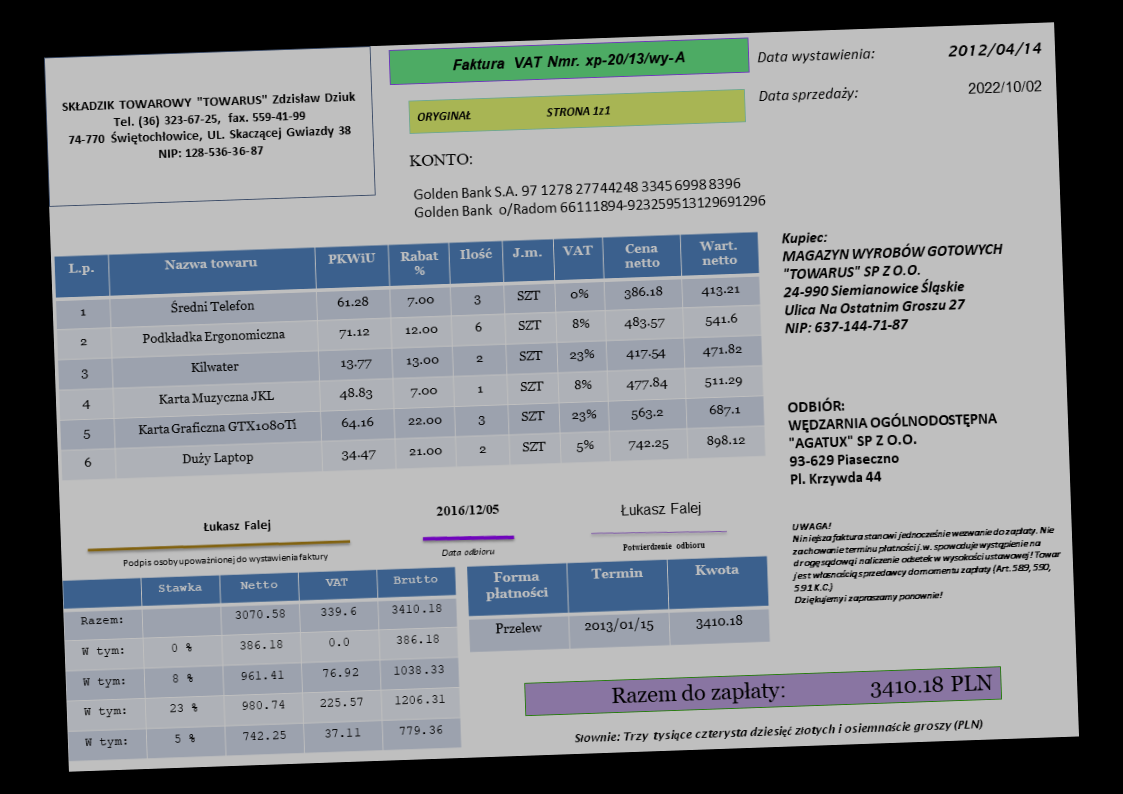Table: (53, 231, 767, 482), (63, 567, 462, 761), (465, 554, 772, 653)
TextBox: (779, 222, 1008, 335), (790, 512, 1064, 606), (60, 88, 361, 165), (786, 390, 1000, 488), (411, 174, 770, 220), (610, 672, 995, 708), (573, 716, 987, 745), (448, 47, 687, 76), (120, 549, 330, 571), (414, 103, 613, 124), (756, 44, 877, 66), (757, 84, 861, 106), (945, 38, 1044, 58), (618, 499, 702, 521), (966, 78, 1045, 96), (201, 517, 273, 536), (433, 500, 500, 520), (621, 539, 706, 553), (408, 150, 474, 168), (439, 544, 496, 560)
